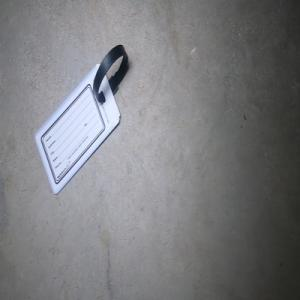LuggageTag: (33, 42, 129, 196)
